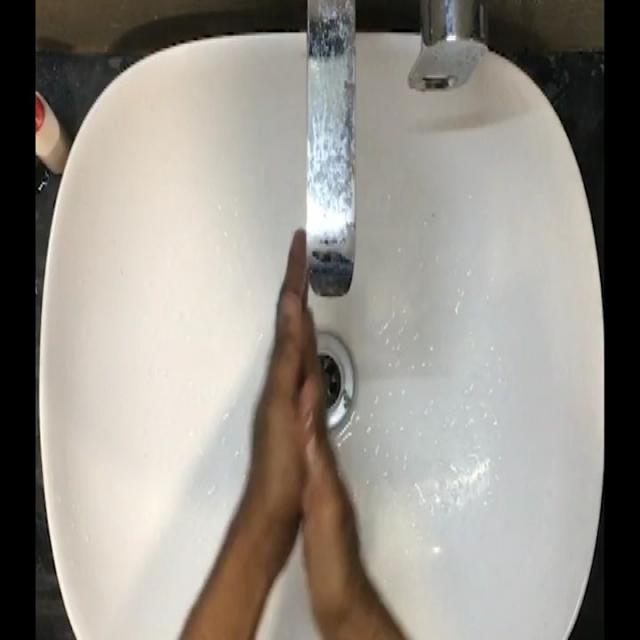step_1: (242, 210, 359, 515)
